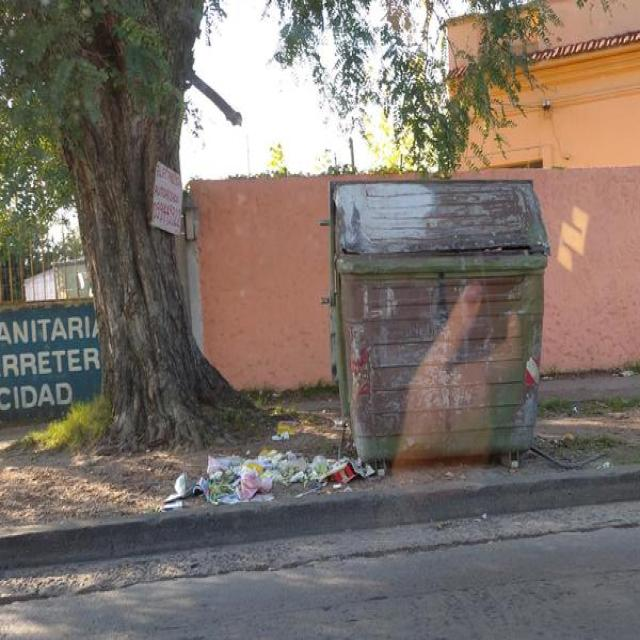garbage: (157, 440, 390, 515), (140, 152, 190, 242), (271, 413, 320, 444), (558, 422, 585, 458)
